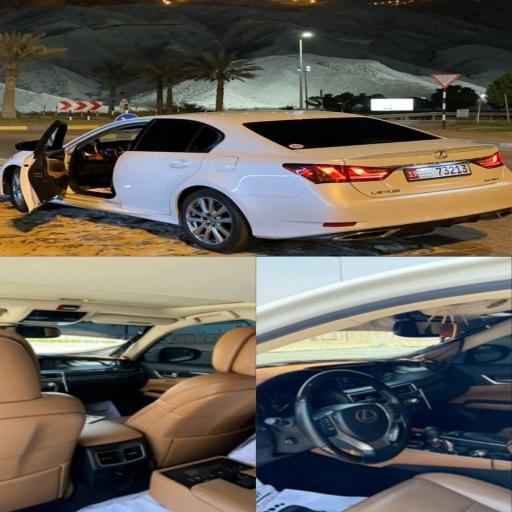license-plates: (404, 163, 472, 181)
